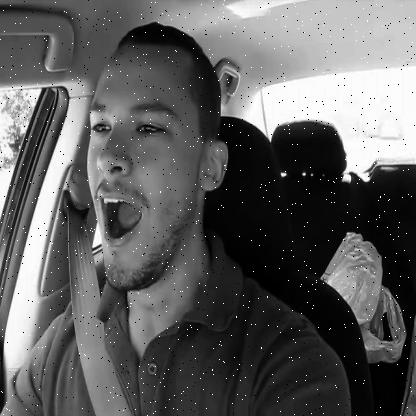seatbelt: (63, 21, 228, 416)
